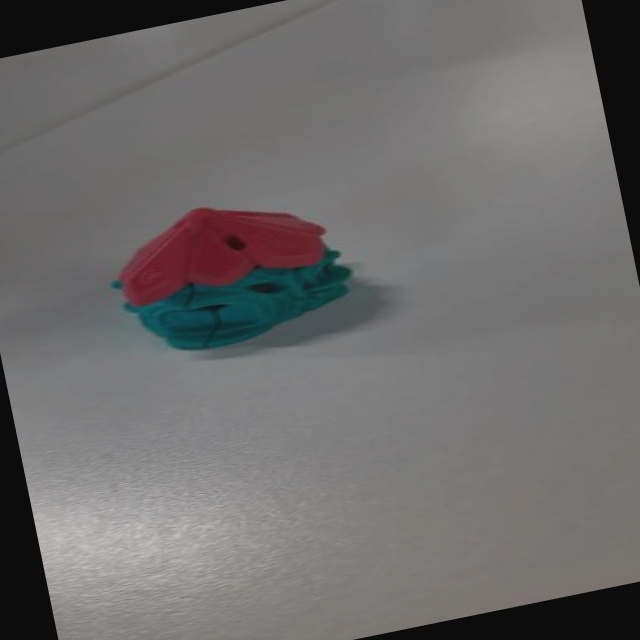House: (96, 167, 388, 368)
